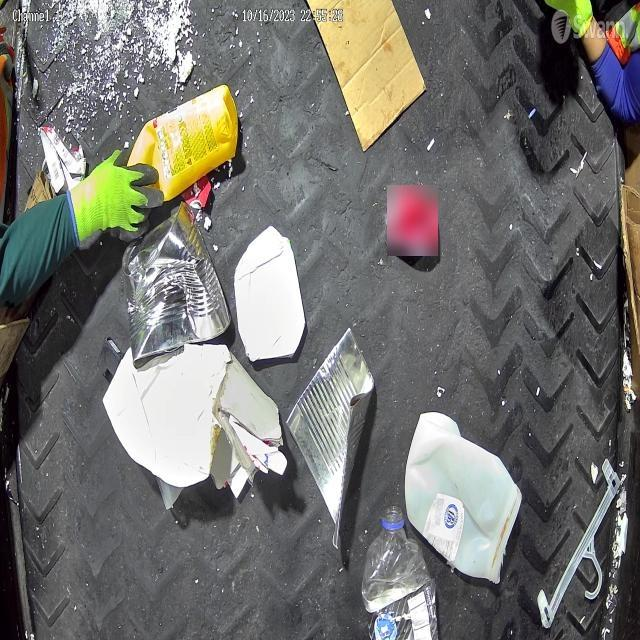milk_jug: (404, 412, 522, 585)
non_white_jug: (123, 41, 237, 192)
plastic_bottle: (362, 506, 438, 640)
